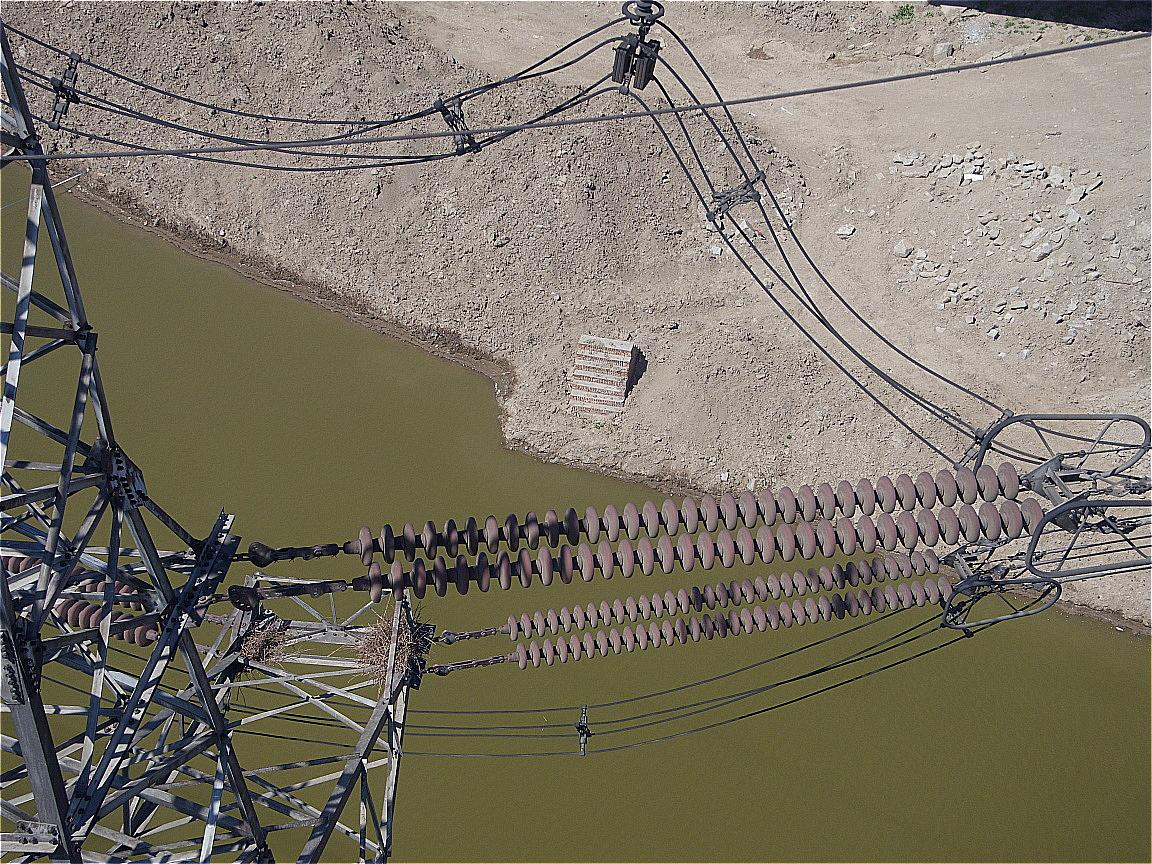insultor1: (358, 462, 1038, 602), (507, 549, 954, 671)
